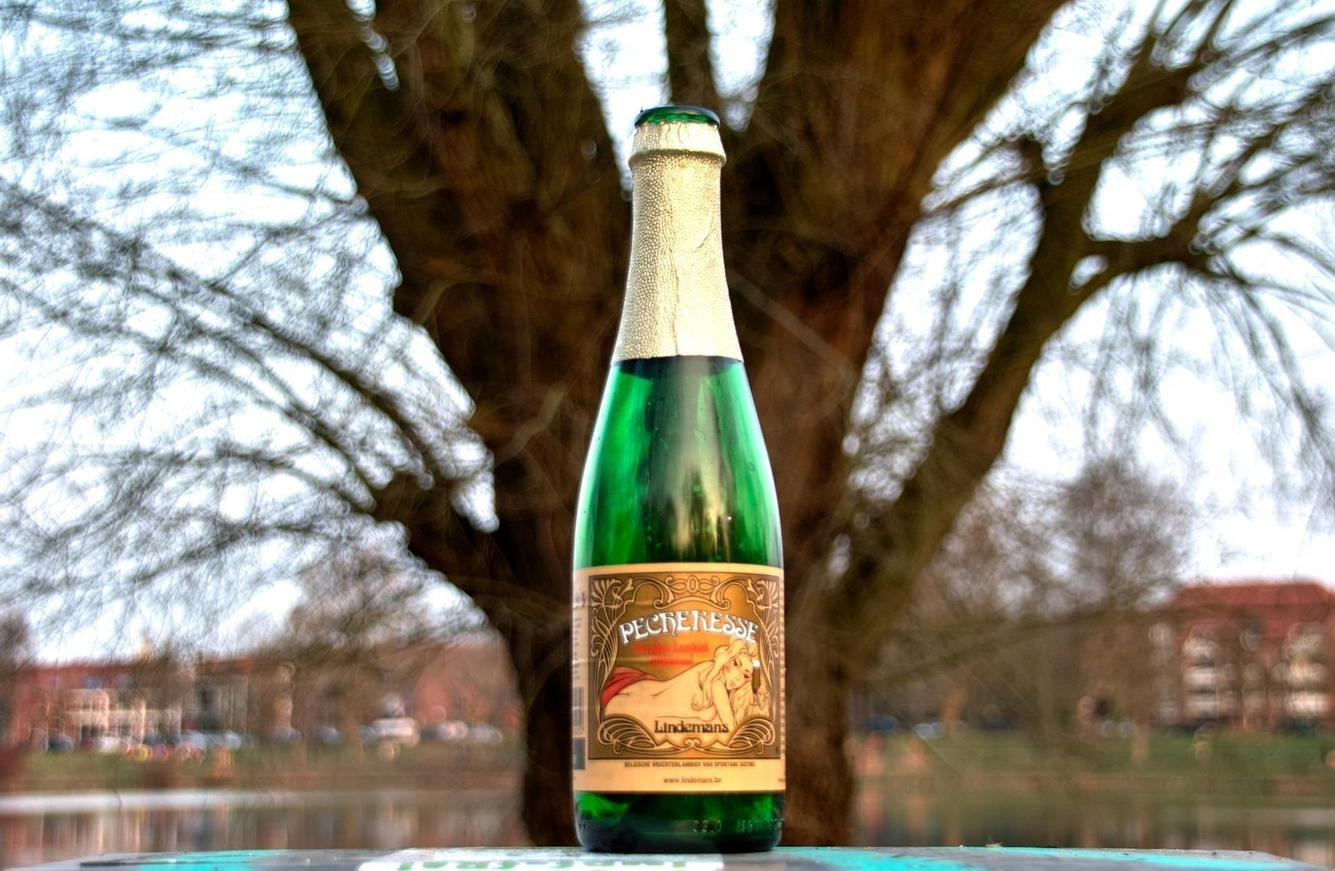bottle-glass: (560, 88, 794, 856)
